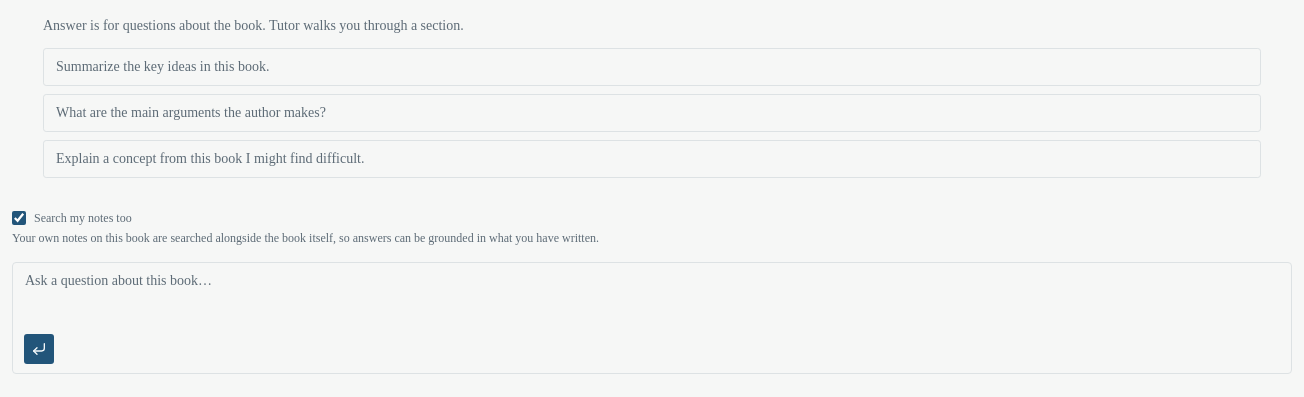
Test case: AskPanel keeps the thread when a turn fails › never deletes the conversation when the first turn fails before the stream starts
Type "a question that never reaches the model" into the text box with placeholder "Ask a question about this book…" at x=652, y=295, box [13, 263, 1291, 327]
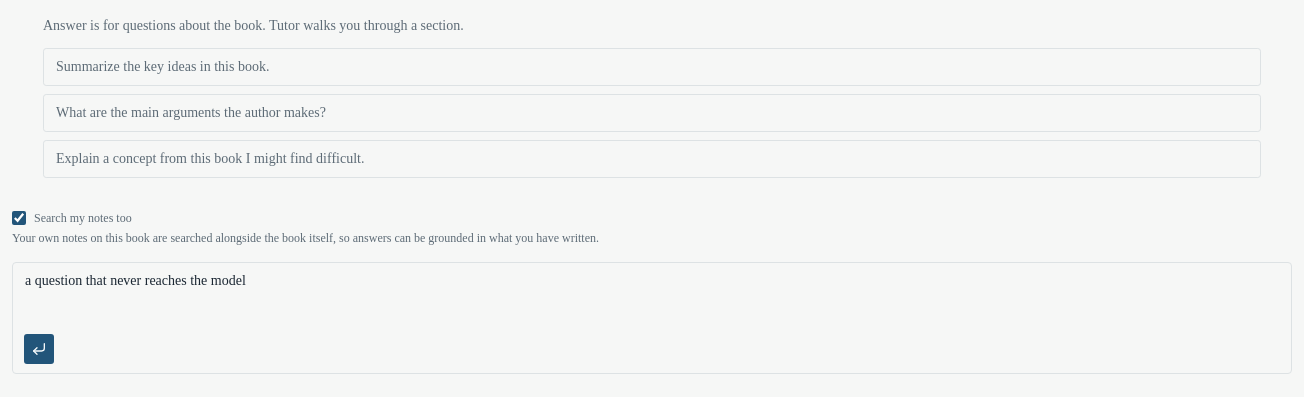
Click the button named "Submit" at x=39, y=349, box [23, 333, 55, 365]
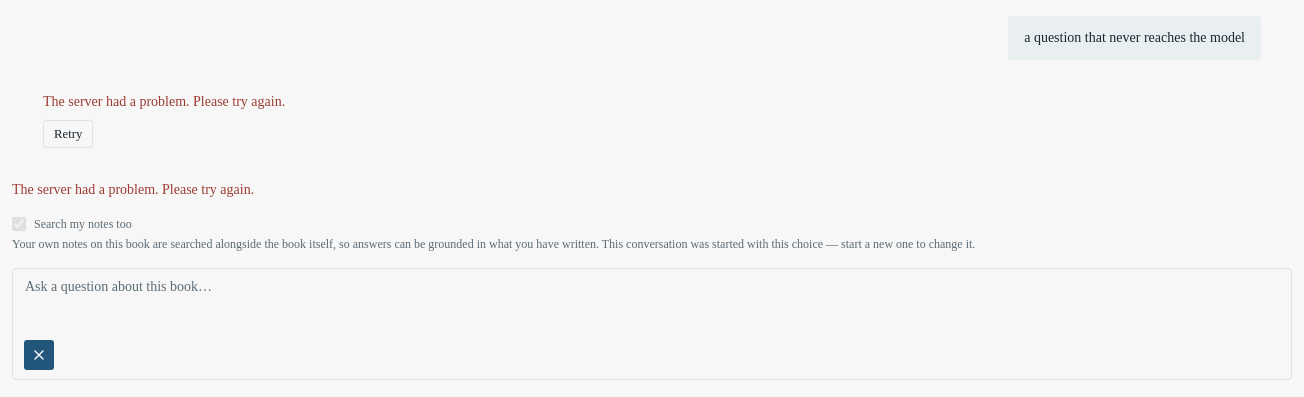
Now the message "The server had a problem. Please try again." is shown, box [12, 182, 254, 197]
Now the text "a question that never reaches the model" is shown, box [1024, 28, 1245, 48]
